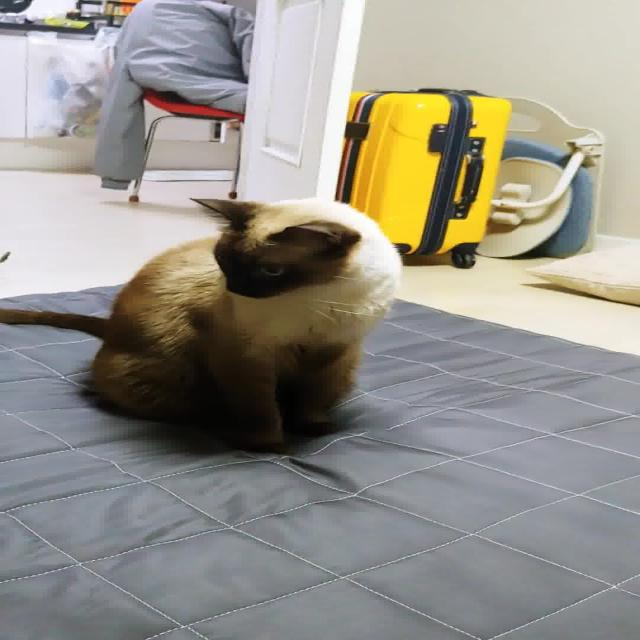cat: (0, 183, 456, 458)
